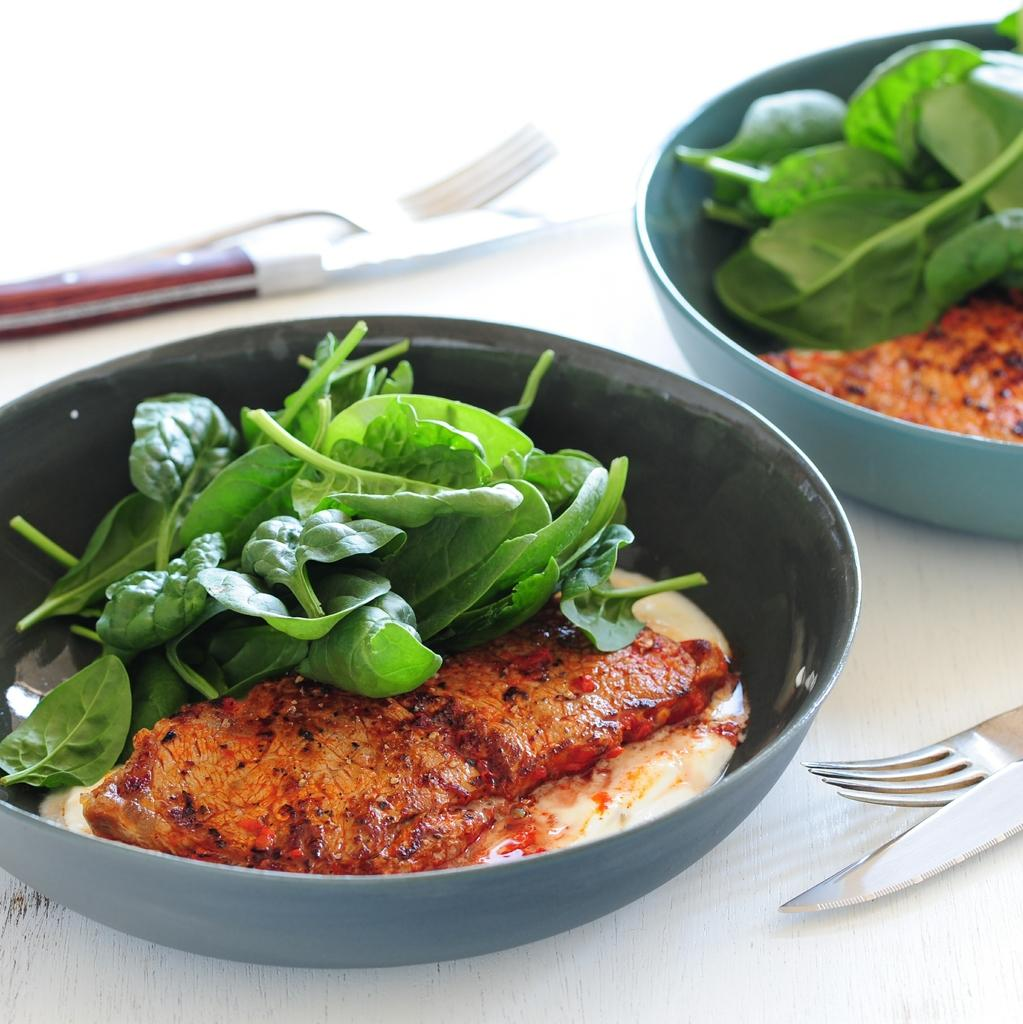Knife: (0, 154, 647, 340), (779, 760, 1022, 915)
